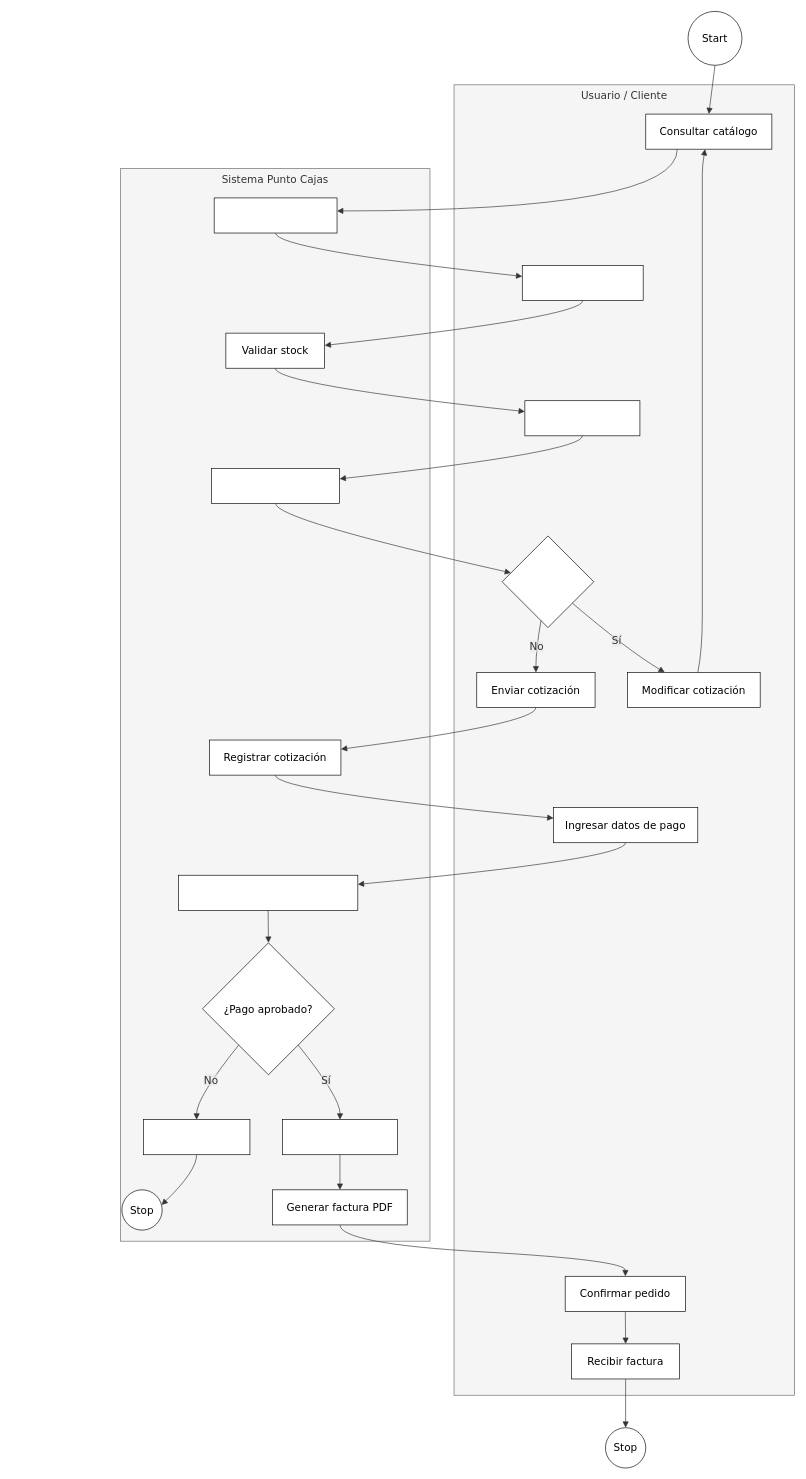
This 806x1479 diagram has some shape labels left out. The shapes that lost their labels are listed below. From the top down, each one's centre as x and y in pixels, then its label:
point 275,215: Mostrar productos
point 582,283: Agregar al carrito
point 582,418: Crear cotización
point 275,485: Calcular IVA / Total
point 547,581: ¿Modificar?
point 268,892: Validar con entidad financiera
point 196,1137: Notificar error
point 339,1137: Registrar pedido
